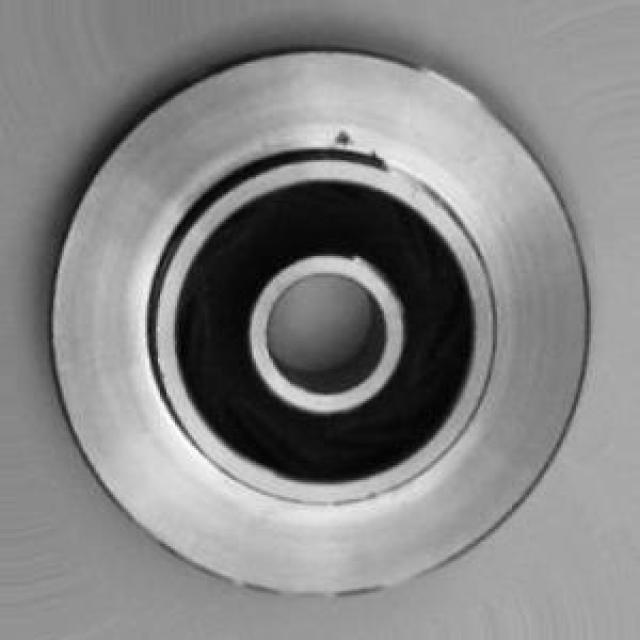Defect: (332, 116, 361, 166)
